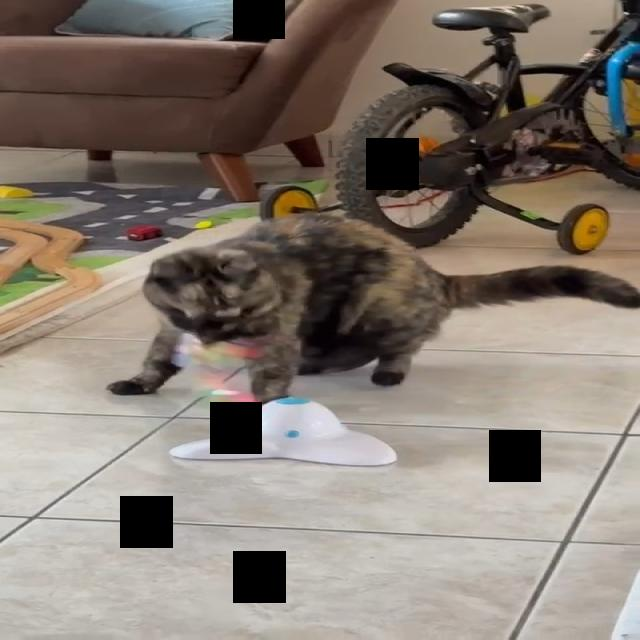authorized: (104, 212, 639, 404)
